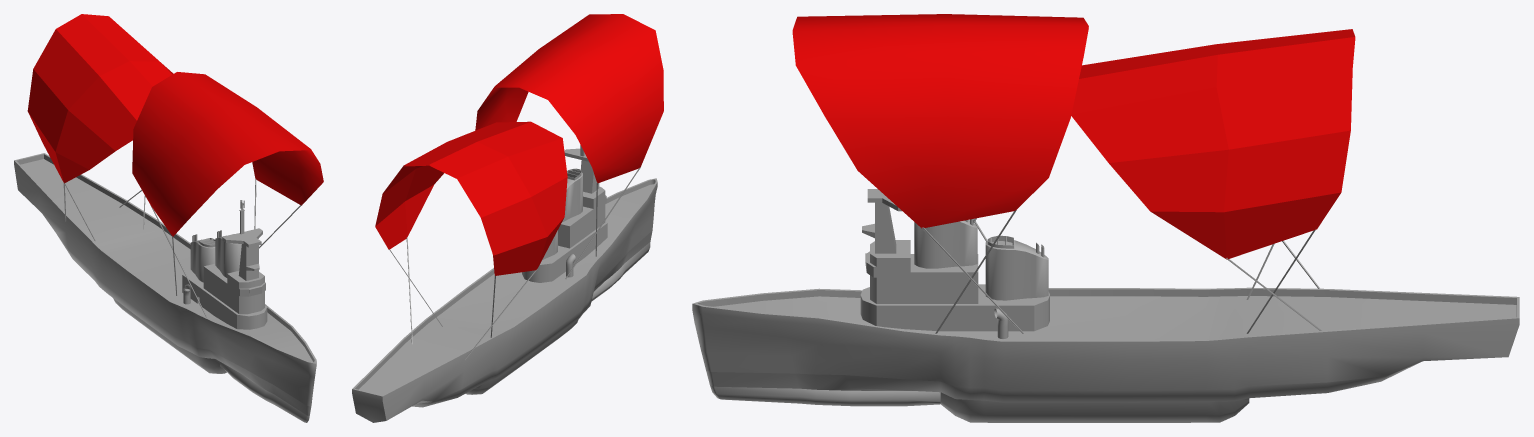
File: ship_navy_fighter_02.FBX
3 views of the same model, side by side, from view 1: azimuth 30°, elevation 25°; view 2: azimuth 150°, elevation 25°; view 3: azimuth 270°, elevation 25° (orthographic). The views are drawn at different scales.
Visible parts, largest first — view 1: ship_navy_fighter_02; view 2: ship_navy_fighter_02; view 3: ship_navy_fighter_02.
Boxes of the visible parts, left/top/right/bottom form: ship_navy_fighter_02: left=14, top=14, right=323, bottom=422; ship_navy_fighter_02: left=352, top=14, right=663, bottom=422; ship_navy_fighter_02: left=692, top=14, right=1519, bottom=422.
Size of the model in its own units: 660 by 1190 by 2262.
